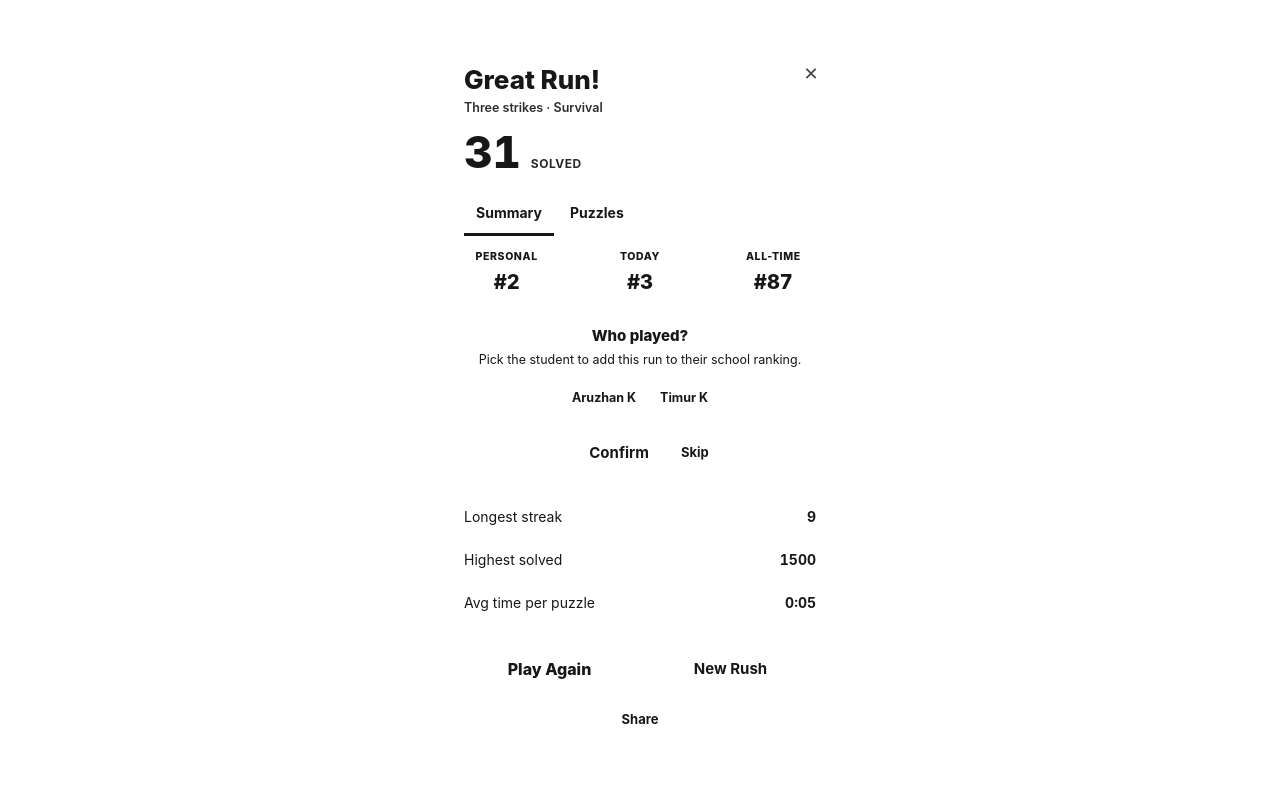
ResultsModal school outcome › needs_student: remembered pick pre-selected, Confirm claims, then shows the pushed outcome
The image size is (1280, 800).
Expected: the text "Who played?" is shown, [592,326,688,344]
Click the button "Confirm" at [619, 453], box [571,428,667,477]
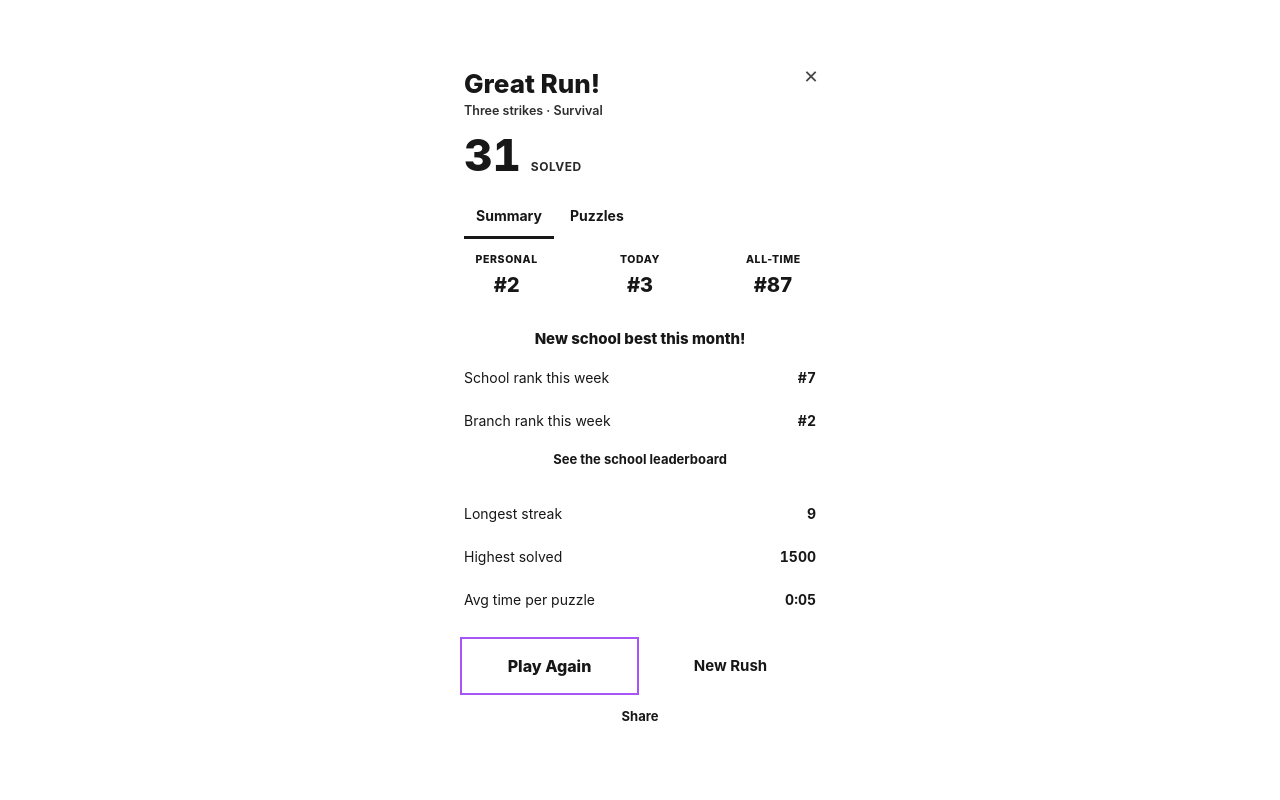
Now the text "New school best this month!" is shown, box [535,329,745,348]
Now the text with test id "rush-school-rank" reads "#7", box [798,369,816,386]
Now the text with test id "rush-branch-rank" reads "#2", box [798,412,816,429]
